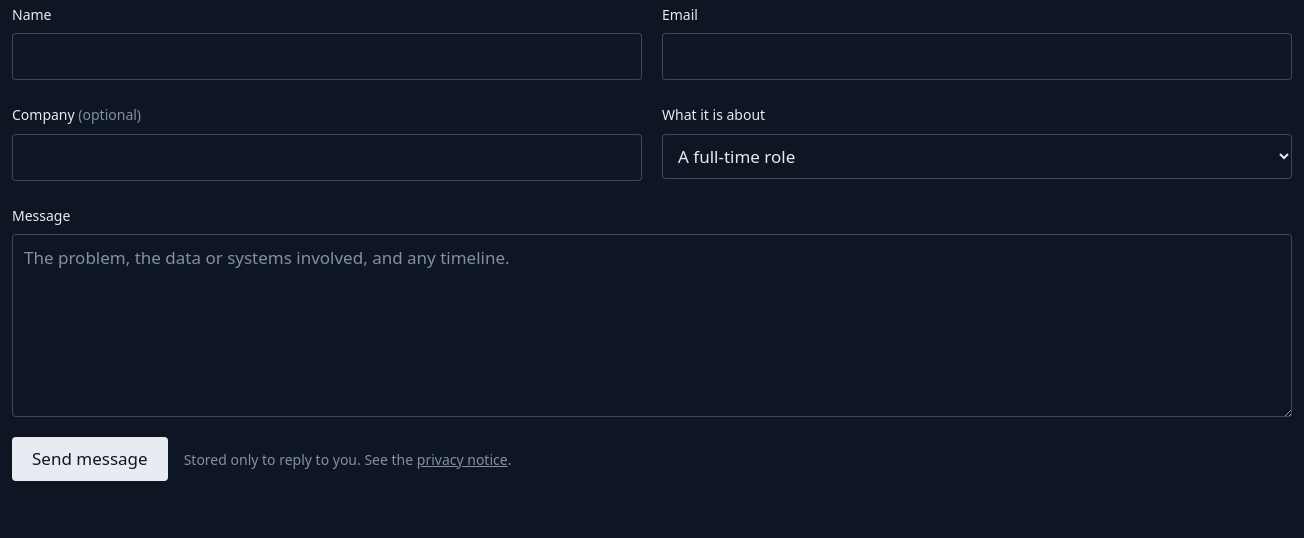
Test: ContactForm › offers the email address when the limit is reached
The width and height of the screenshot is (1304, 538).
In the field labelled "Name": (327, 57) [12,33,642,80], type "Ada Lovelace"
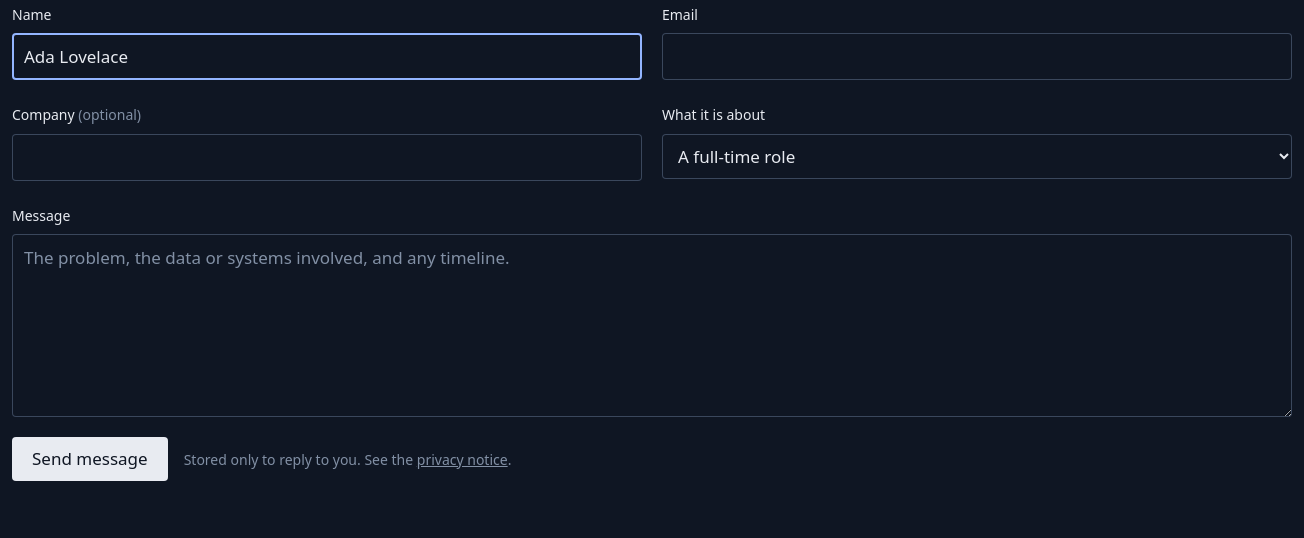
In the field labelled "Email": (977, 57) [662,33,1292,80], type "ada@example.com"
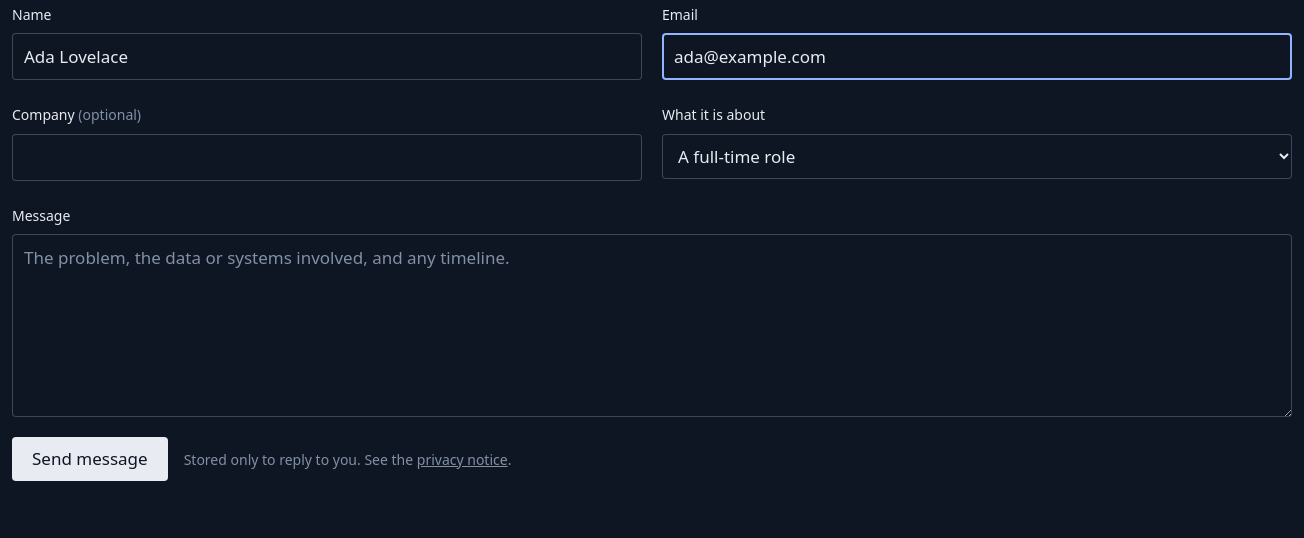
In the text box labelled "Message": (652, 325) [12,234,1292,417], type "We need help with our monthly sales data."
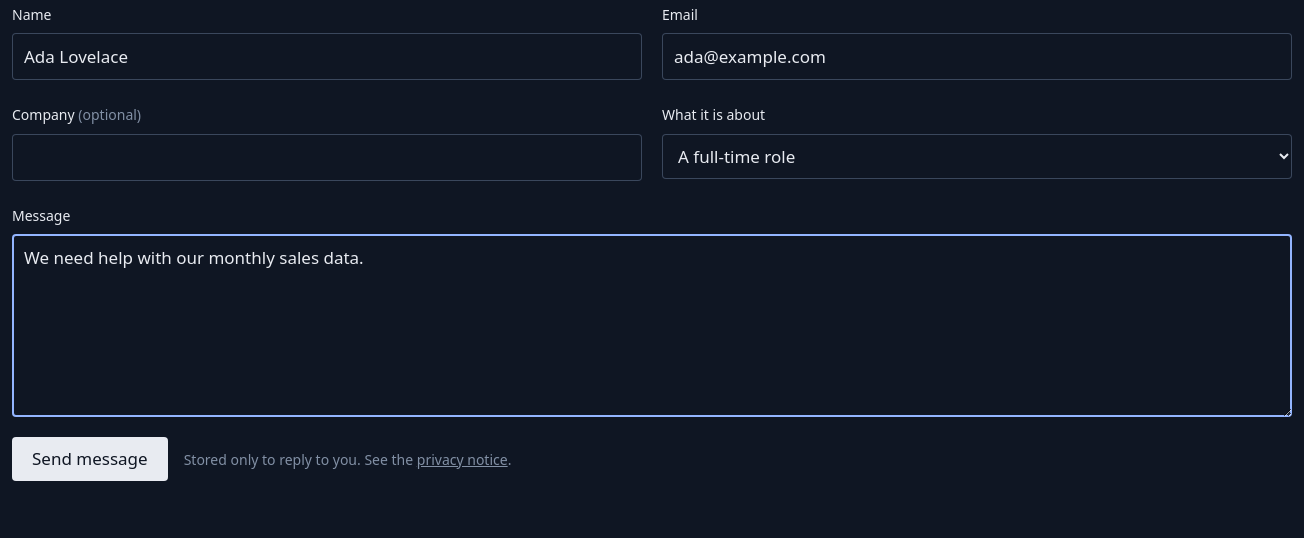
Click the button "Send message": (90, 459) [12,437,168,481]
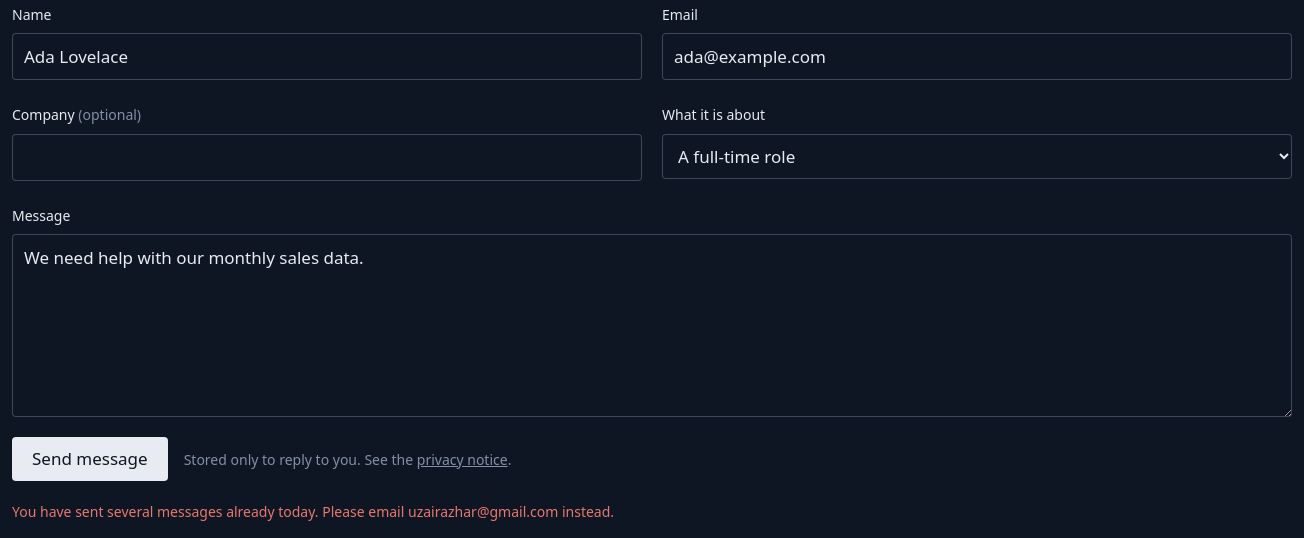
Now the text "email uzairazhar@gmail.com instead" is shown, box [12,502,614,521]
